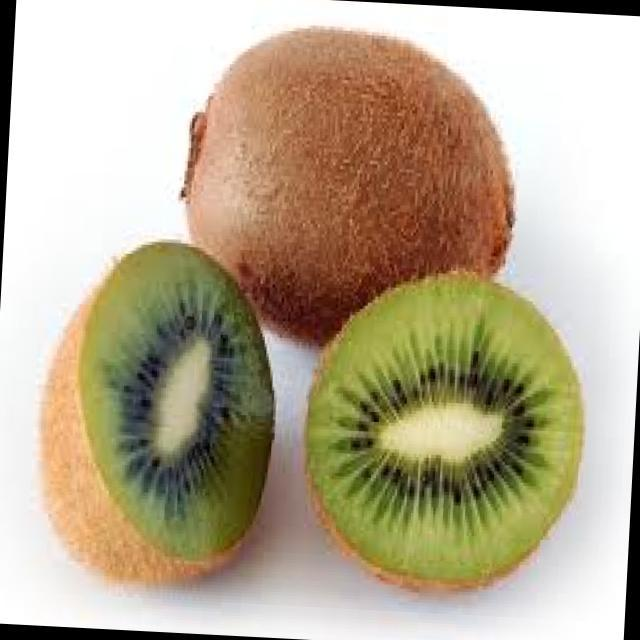Kiwi: (301, 264, 611, 602)
